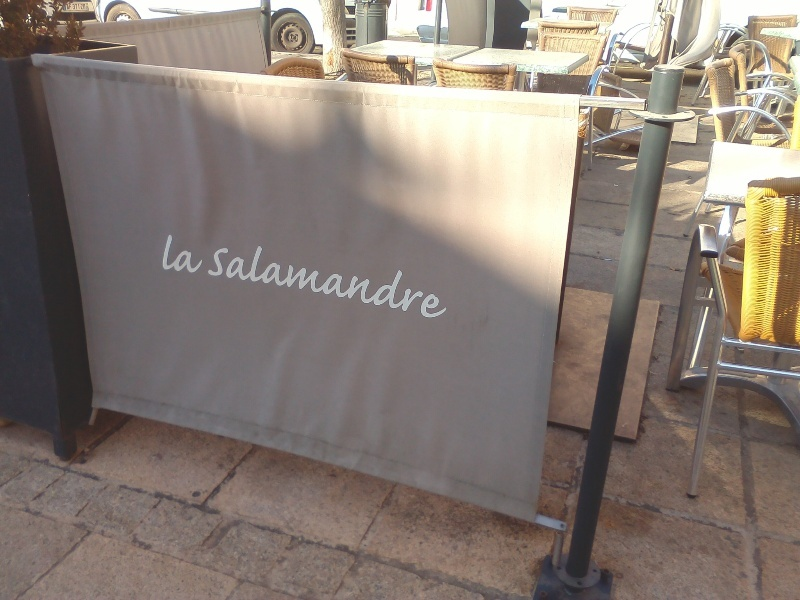text: (225, 237, 240, 322), (241, 237, 256, 322), (257, 237, 272, 322), (273, 237, 288, 322), (289, 237, 304, 322), (305, 237, 320, 322), (321, 237, 336, 322), (337, 237, 352, 322), (353, 237, 368, 322), (369, 237, 384, 322), (385, 237, 400, 322), (401, 237, 416, 322), (417, 237, 432, 322), (433, 237, 448, 322), (214, 237, 224, 322), (177, 234, 192, 275), (193, 234, 208, 275), (449, 237, 455, 322), (167, 234, 176, 275)
